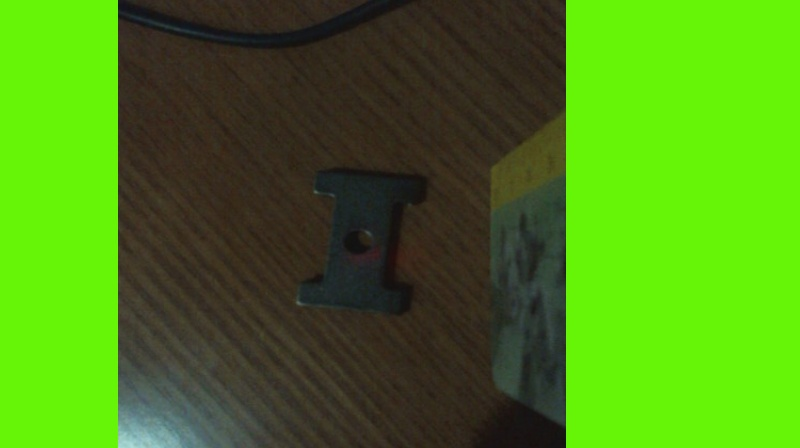O002: (294, 167, 427, 314)
